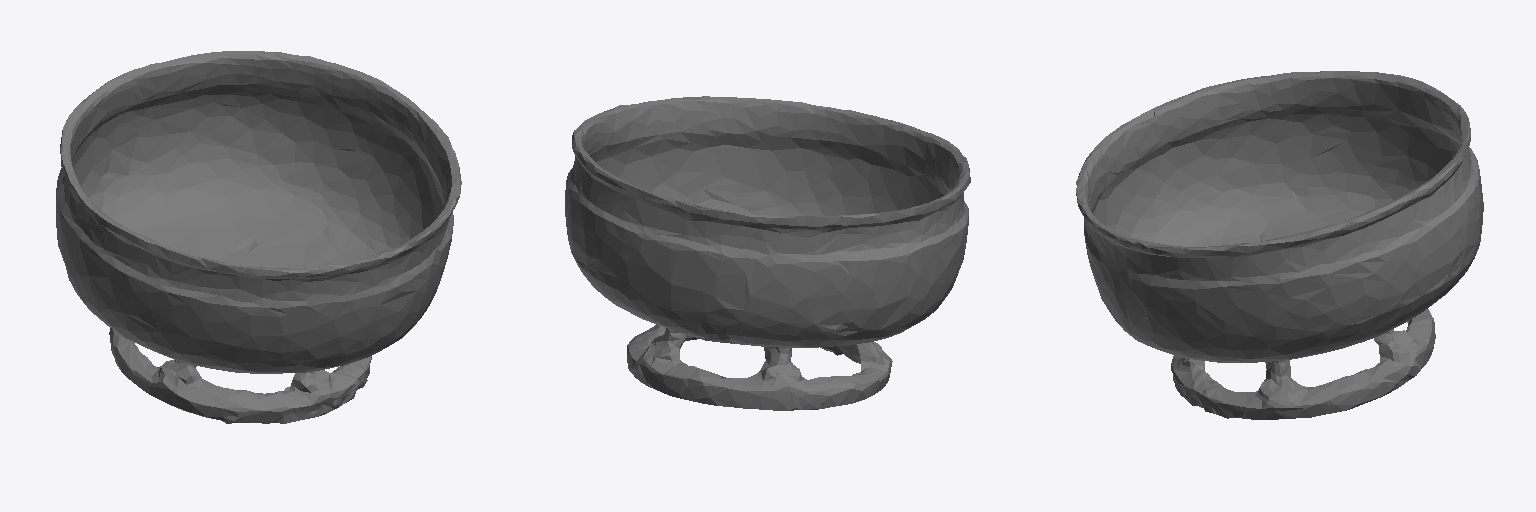
3 renders of one model, left to right at view 1: azimuth 30°, elevation 25°; view 2: azimuth 150°, elevation 25°; view 3: azimuth 270°, elevation 25°, orthographic.
Visible parts, largest first — view 1: Polygonal_Model_1 Triangles_1; view 2: Polygonal_Model_1 Triangles_1; view 3: Polygonal_Model_1 Triangles_1.
Part boxes in pixels (x1,y1,x2,y2): Polygonal_Model_1 Triangles_1: (56,51,461,423); Polygonal_Model_1 Triangles_1: (565,96,970,410); Polygonal_Model_1 Triangles_1: (1076,71,1483,419).
Size of the model in its own units: 2.14 by 1.48 by 2.18.